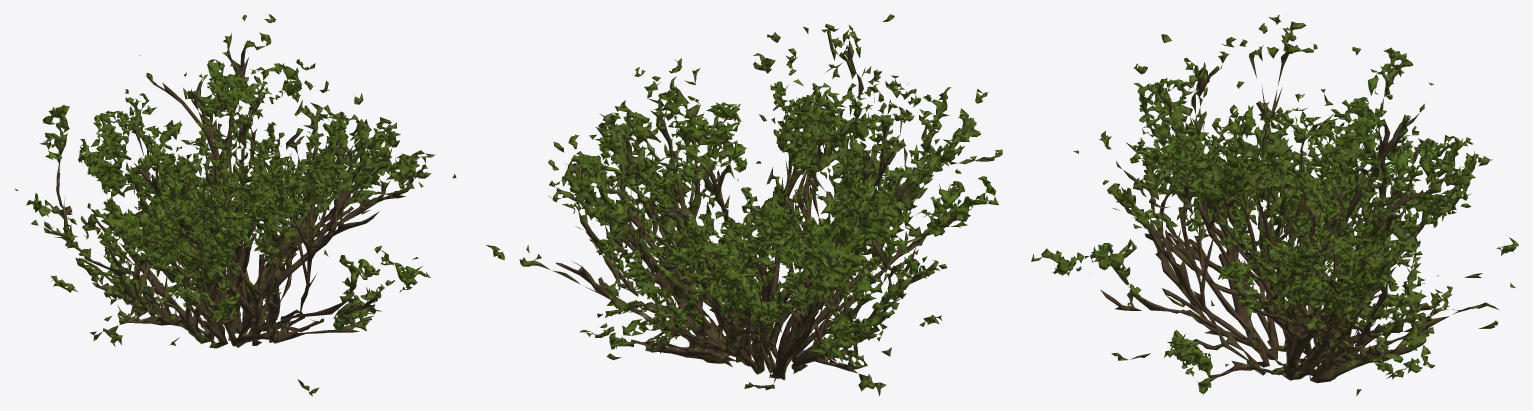
The model's file is shrub.0.glb.
3 views of the same model, side by side, from view 1: azimuth 30°, elevation 25°; view 2: azimuth 150°, elevation 25°; view 3: azimuth 270°, elevation 25° (orthographic). The views are drawn at different scales.
Visible parts, largest first — view 1: geometry_0; view 2: geometry_0; view 3: geometry_0.
Boxes of the visible parts, x1,y1,x2,y2 form: geometry_0: (15, 14, 456, 396); geometry_0: (486, 14, 1002, 396); geometry_0: (1031, 14, 1518, 396).
Size of the model in its own units: 0.8843 by 0.6277 by 0.8833.
1 material, 1 textured.
